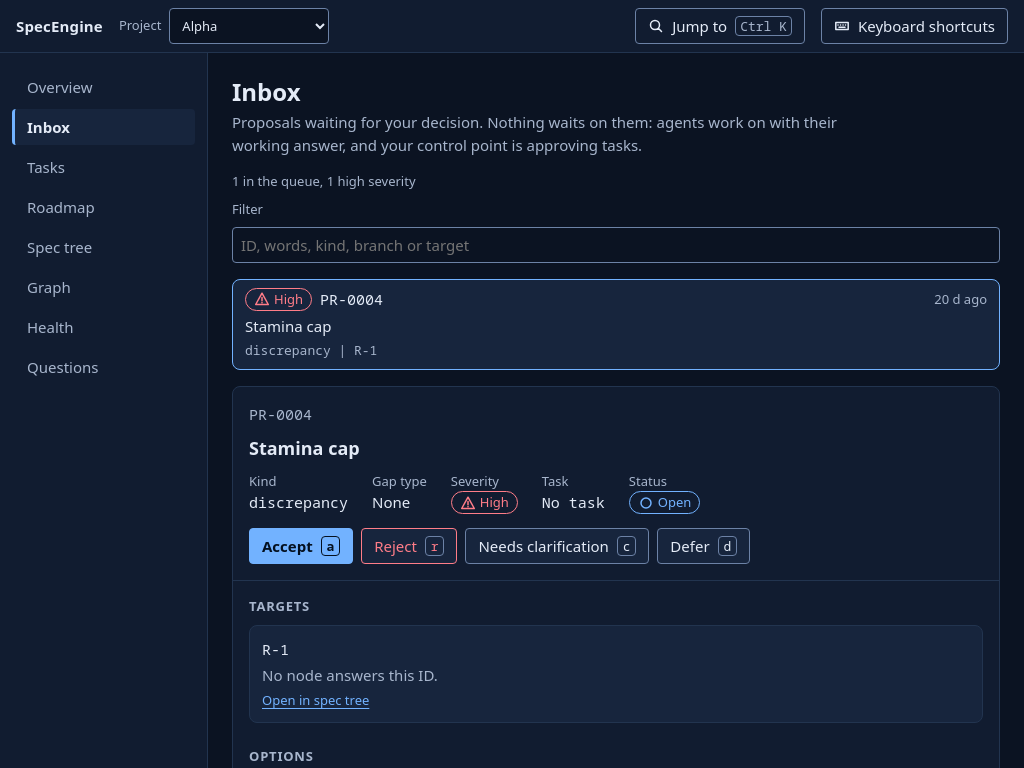
Test: staging over the daemon (AC-14 of decision-staging) › a 409 carrying the review document: the dialog shows its last note, never the JSON; the inbox and PR-0004 read again
The image size is (1024, 768).
Click the button "Reject r": (409, 546) [361, 528, 457, 564]
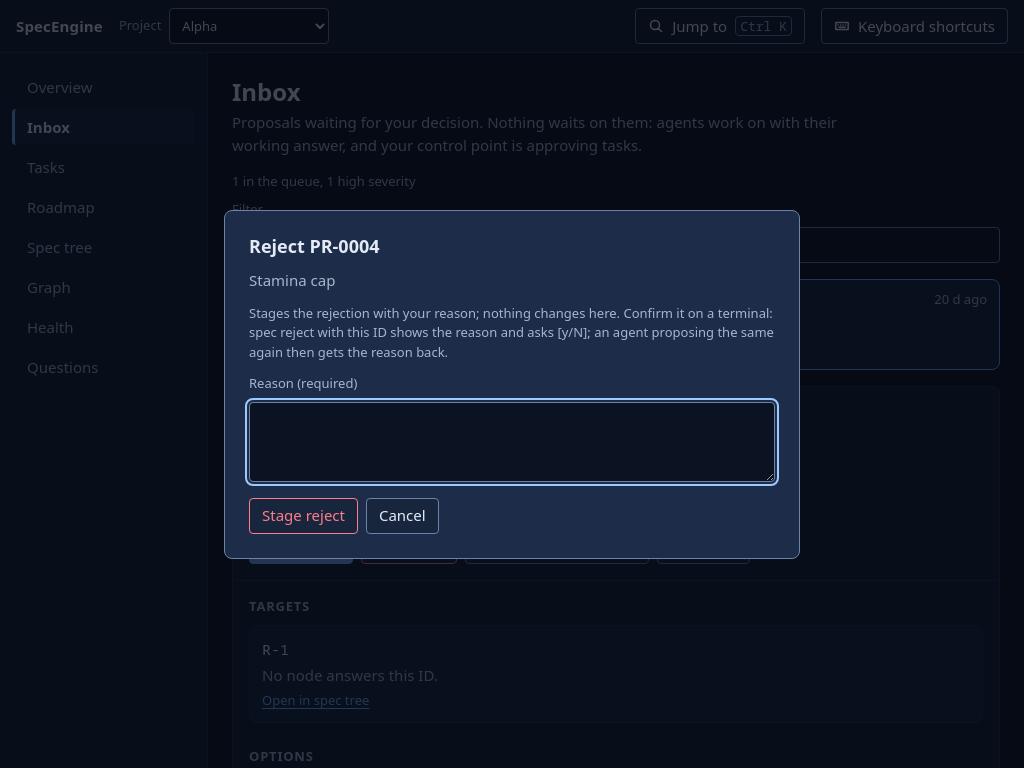
In the text box labelled "Reason (required)": (512, 442) [249, 402, 775, 482], type "dup"
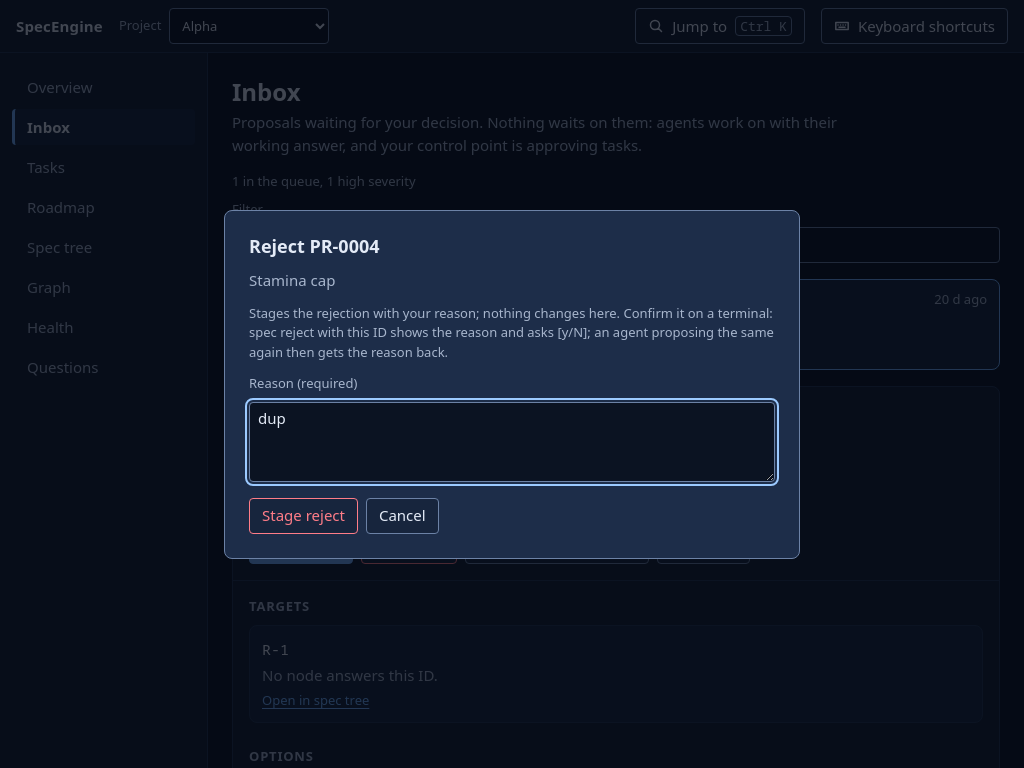
Click the button "Stage reject": (304, 516) [249, 498, 358, 534]
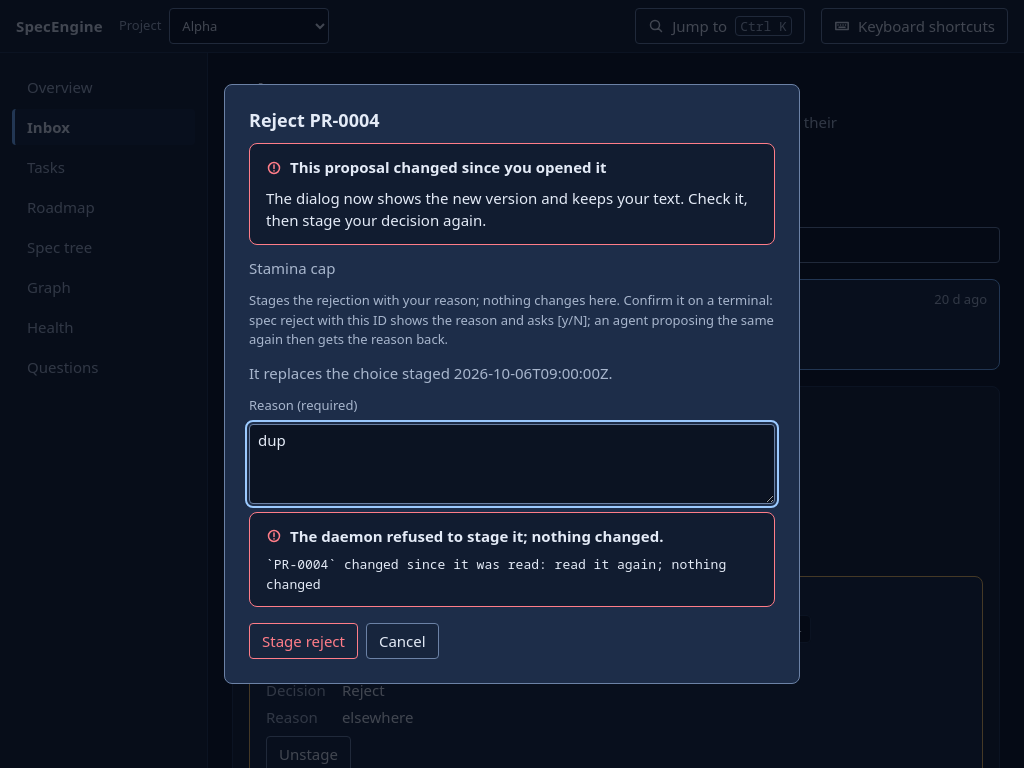
Now the text "This proposal changed since you opened it" is shown, box [290, 156, 607, 179]
